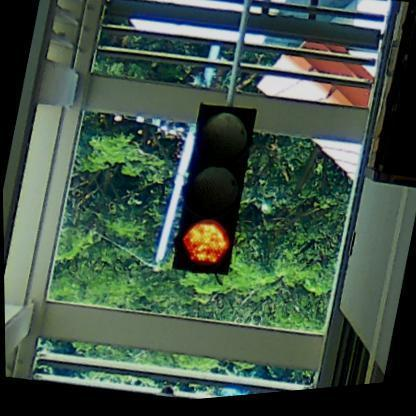red: (163, 104, 261, 286)
